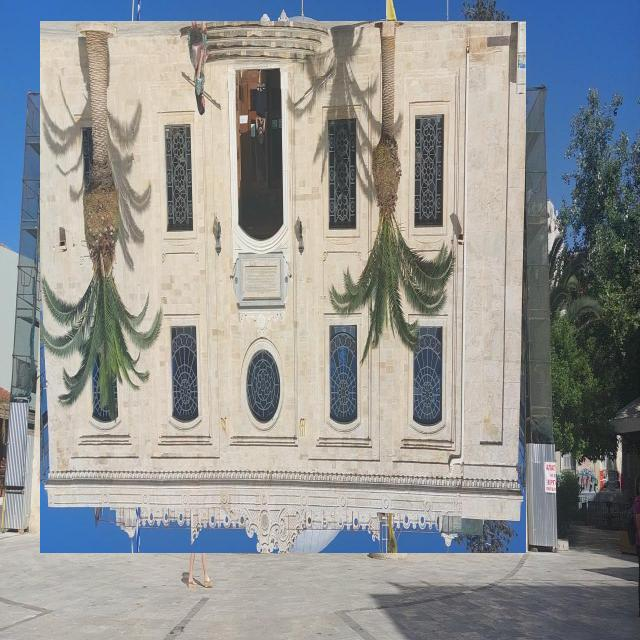Agios Titos: (41, 22, 527, 554)
